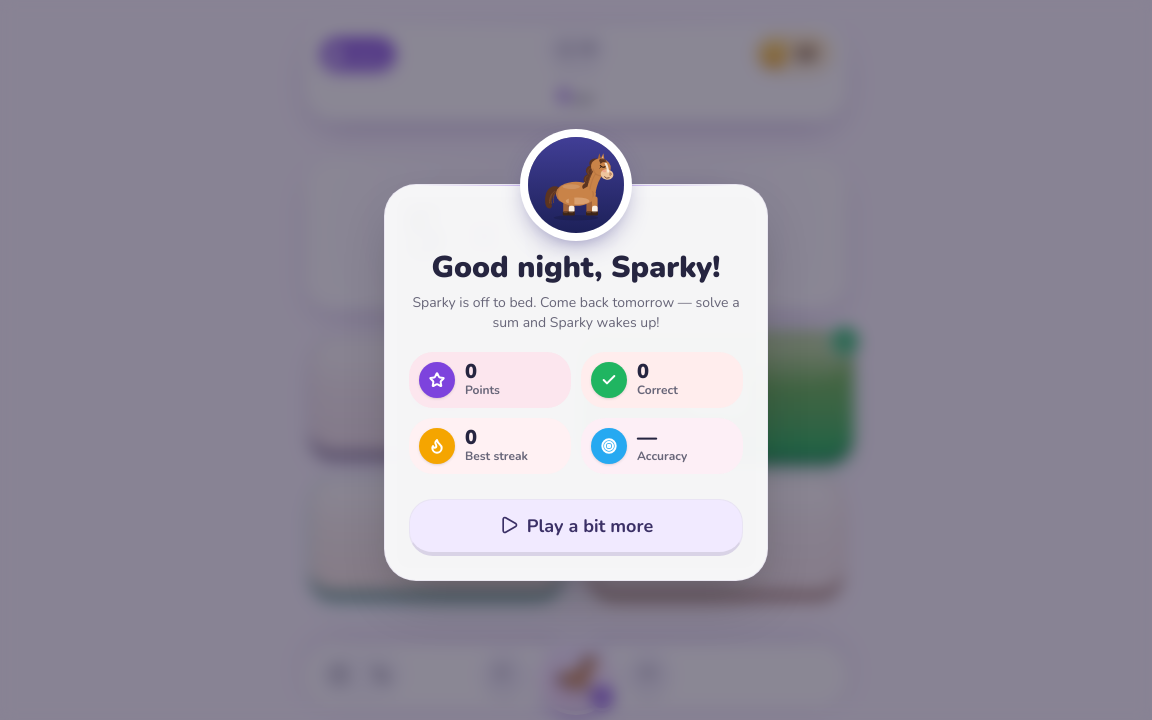
GameScreen › puts the pets to bed when the child finishes for today, and wakes them with the next sum
Expected: the heading "Good night, Sparky!" is shown, [409,249,743,286]
Step 1. Click the button "Play a bit more" → coordinates (576, 527), box [409,498,743,555]
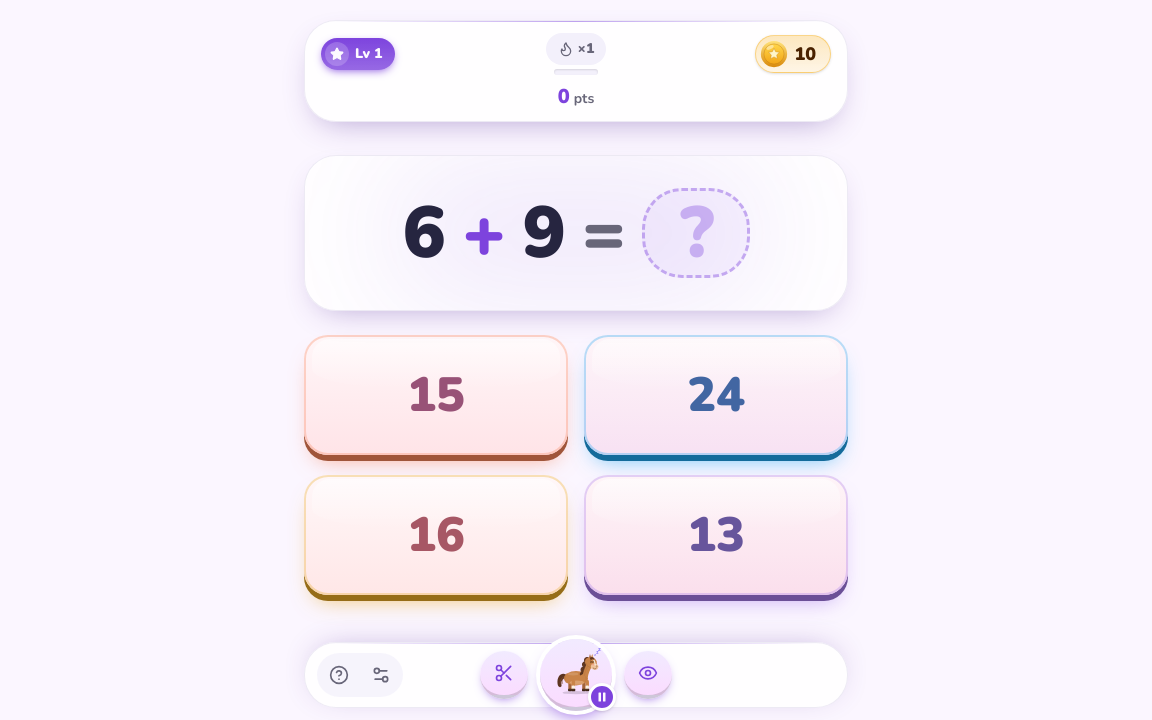
Expected: the dialog is gone
Step 2. Click the button "15" → coordinates (436, 395), box [304,335,568,455]
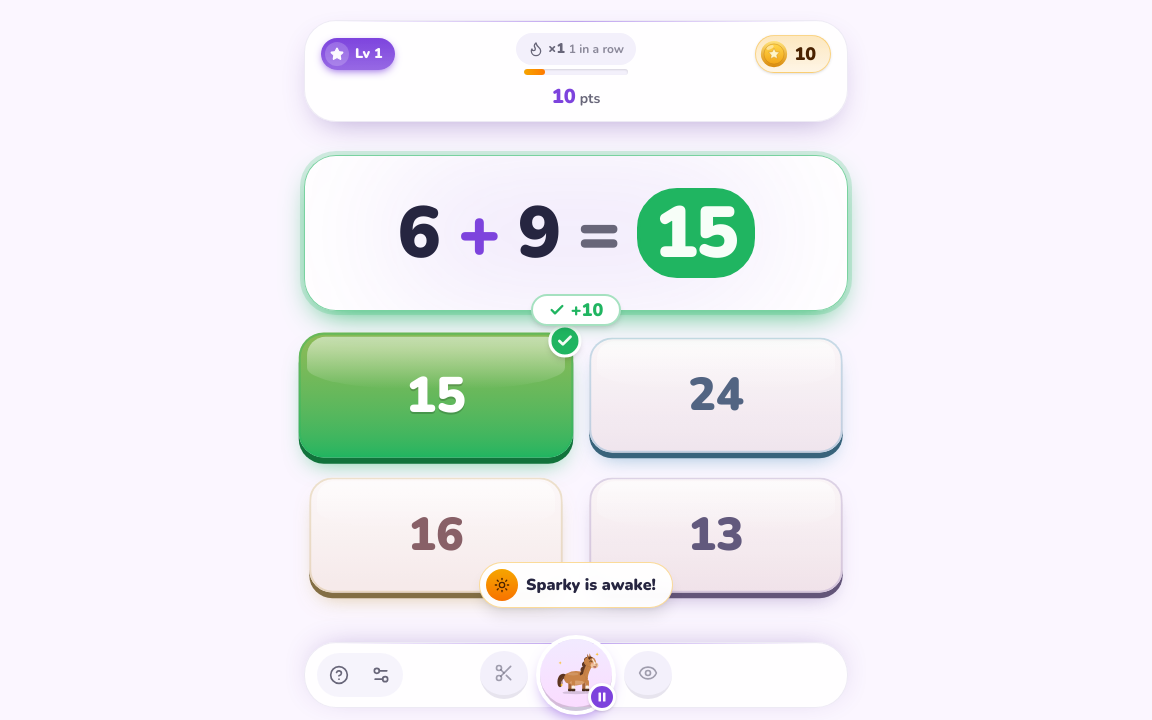
Expected: the text "Sparky is awake!" is shown, [479,562,673,608]
